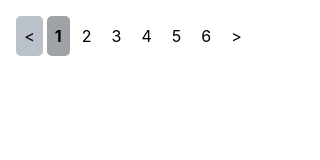
Test case: renders the pagination last page selected
Click the button "6".
click(206, 36)  # box [193,16,219,56]
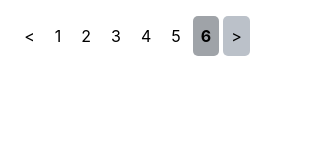
Now the button "<" is enabled, box [16,16,43,56]
Now the button ">" is disabled, box [223,16,250,56]
